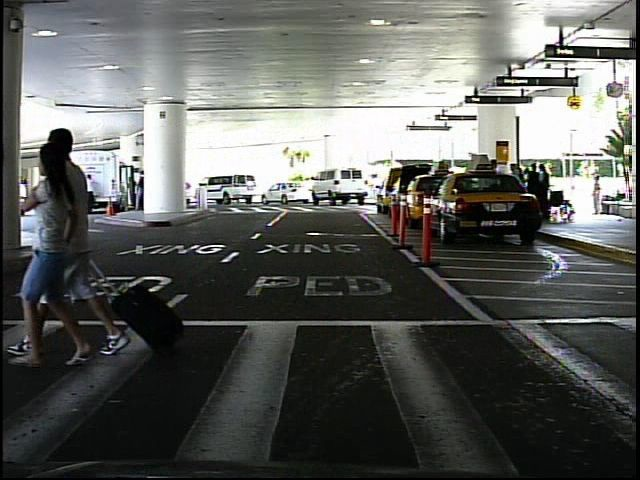person: (43, 114, 110, 361), (81, 170, 99, 220), (588, 172, 607, 218)
